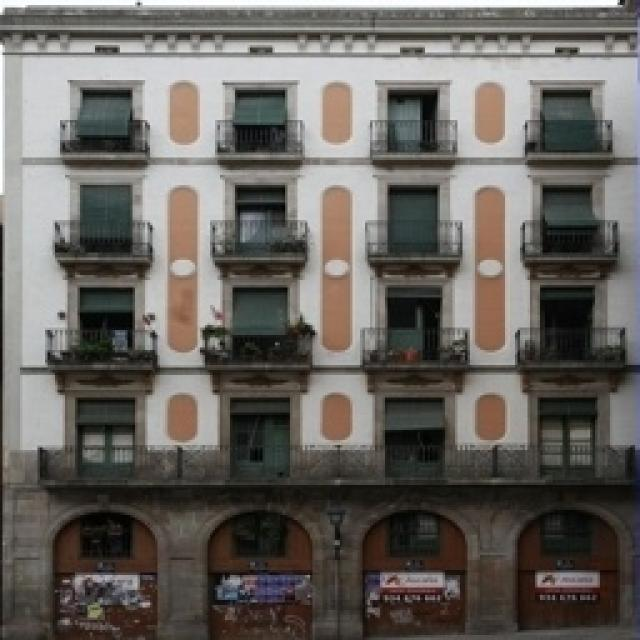building: (2, 5, 640, 640)
